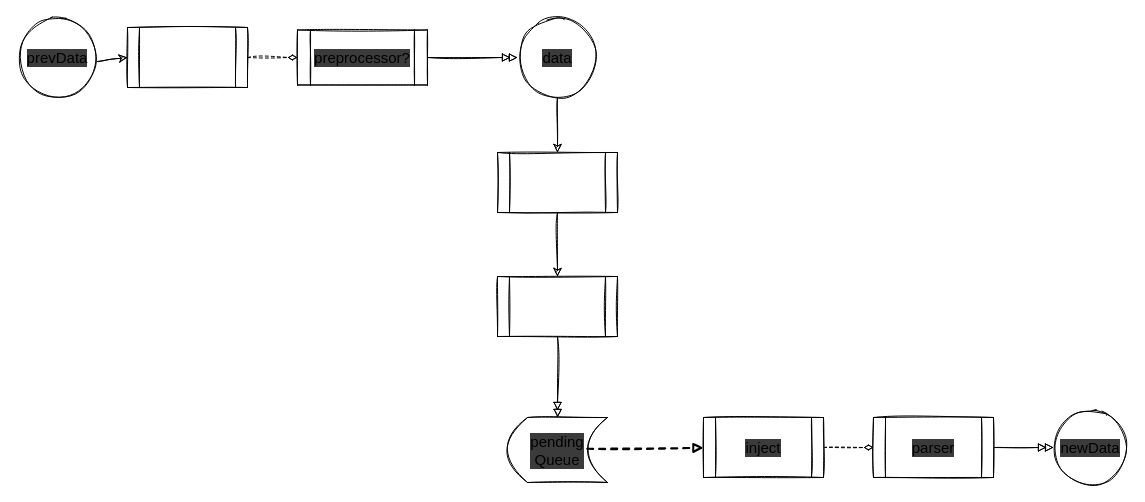
Some shapes in this 1145 by 502 pixel diagram are drawn without their labels. Each missing label, with the centre of its shape:
"dispatch" goes at [557,182].
"extract" goes at [187,57].
"get" goes at [557,306].
